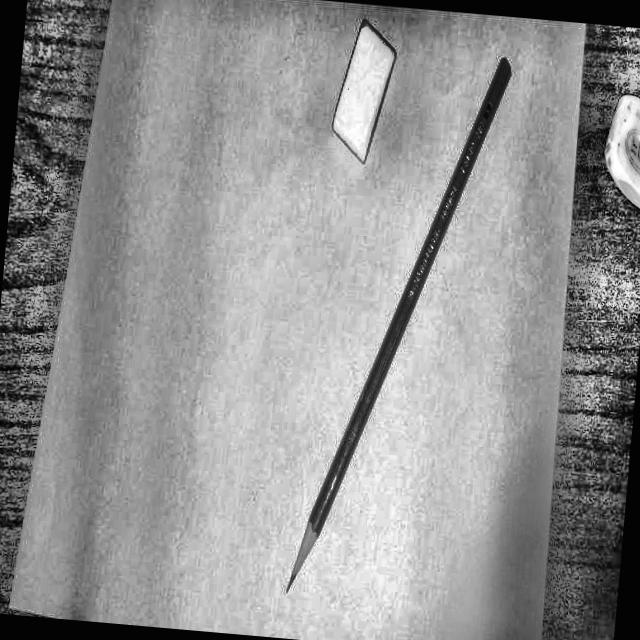eraser: (297, 2, 418, 191)
